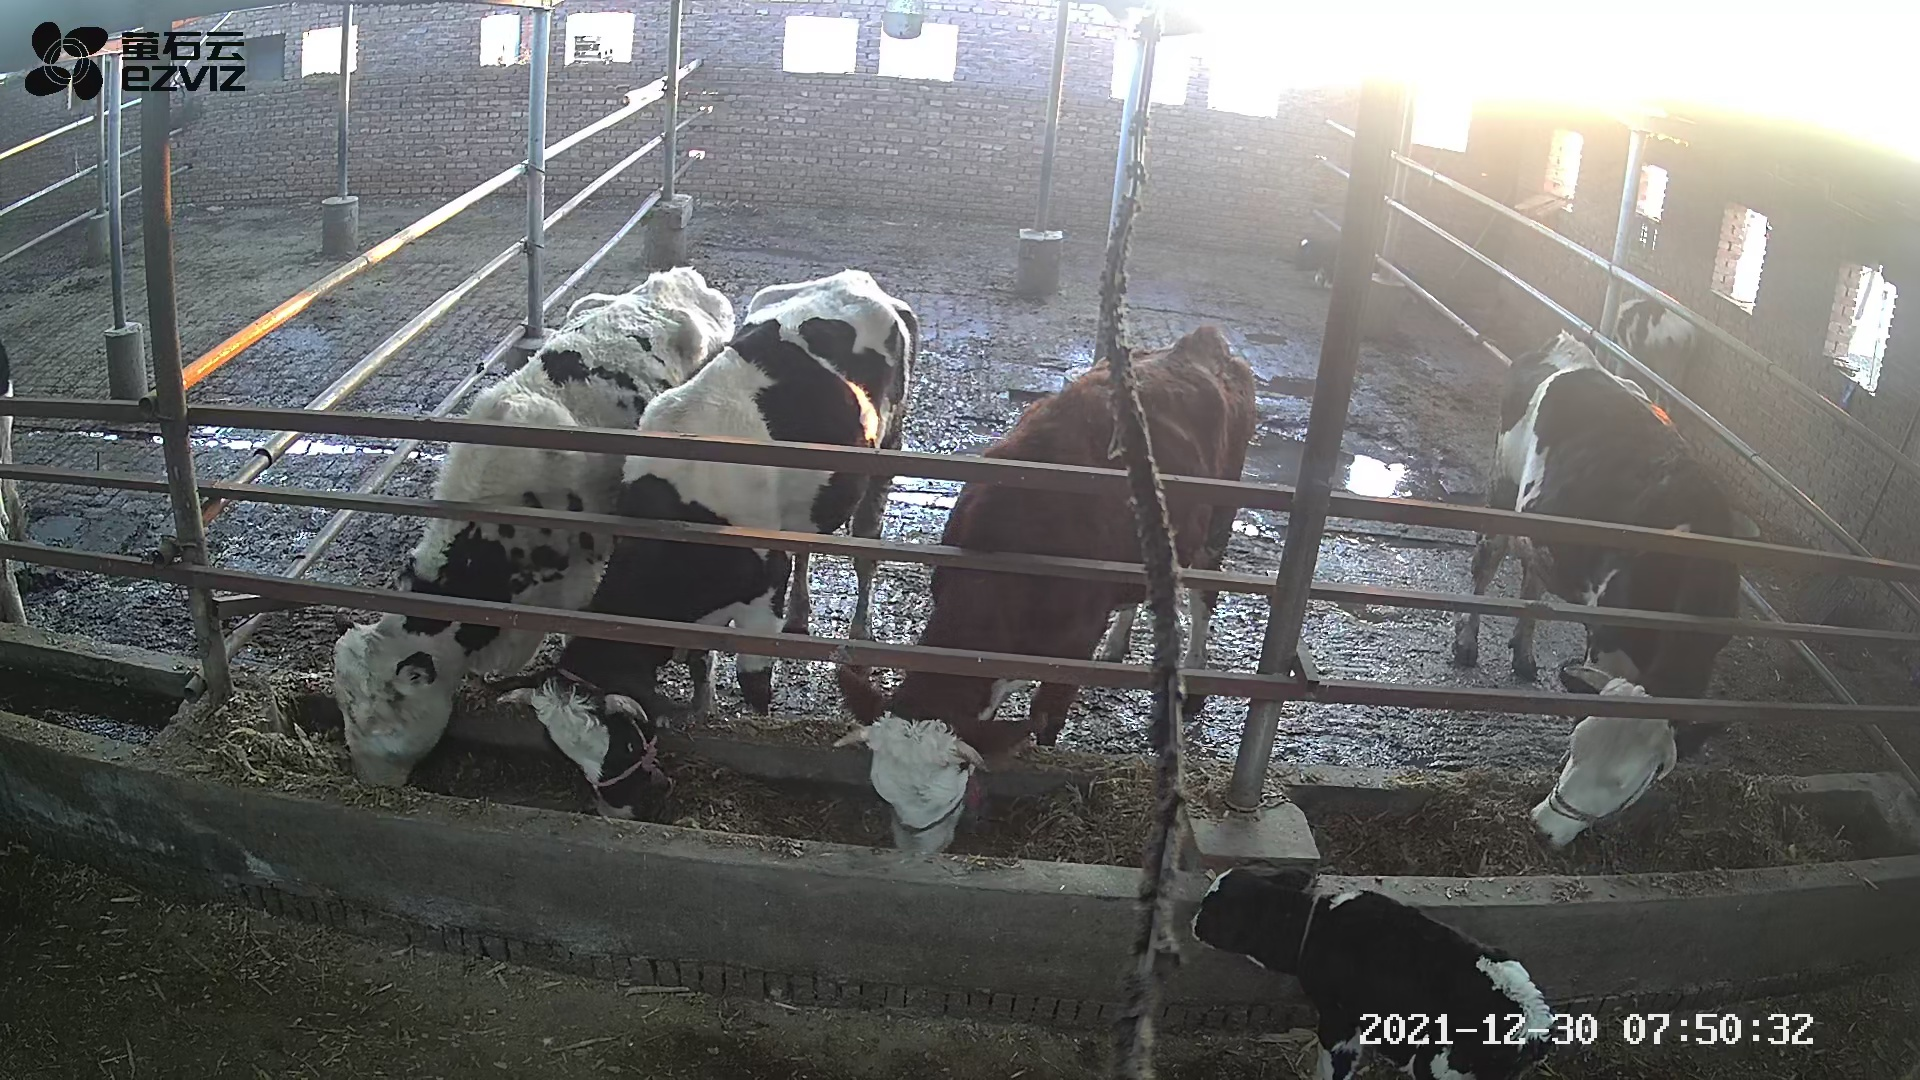cow: (496, 269, 922, 818), (832, 320, 1259, 855), (328, 265, 737, 794), (1449, 320, 1747, 857)
